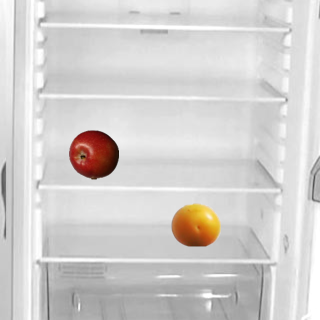Apple Braeburn: (68, 129, 118, 179)
Cherry Wax Yellow: (170, 199, 220, 249)
